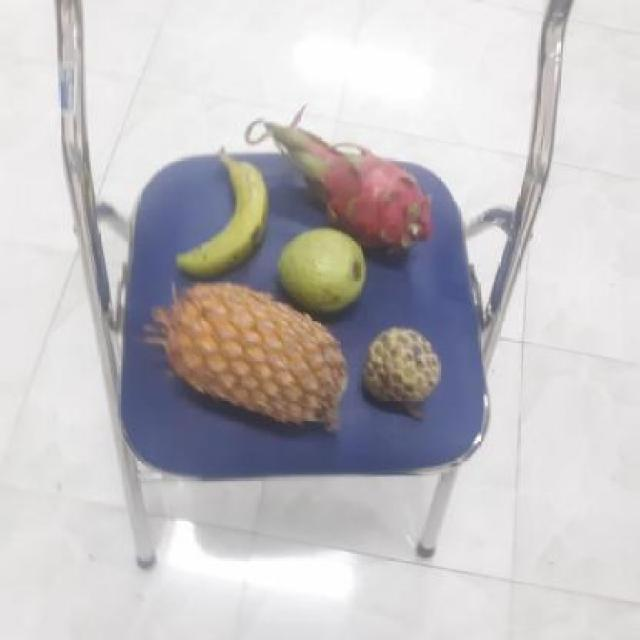banana: (172, 152, 270, 286)
dragon fruit: (275, 132, 427, 259)
guava: (274, 227, 368, 316)
pineapple: (157, 287, 346, 431)
sugar apple: (356, 328, 438, 410)
